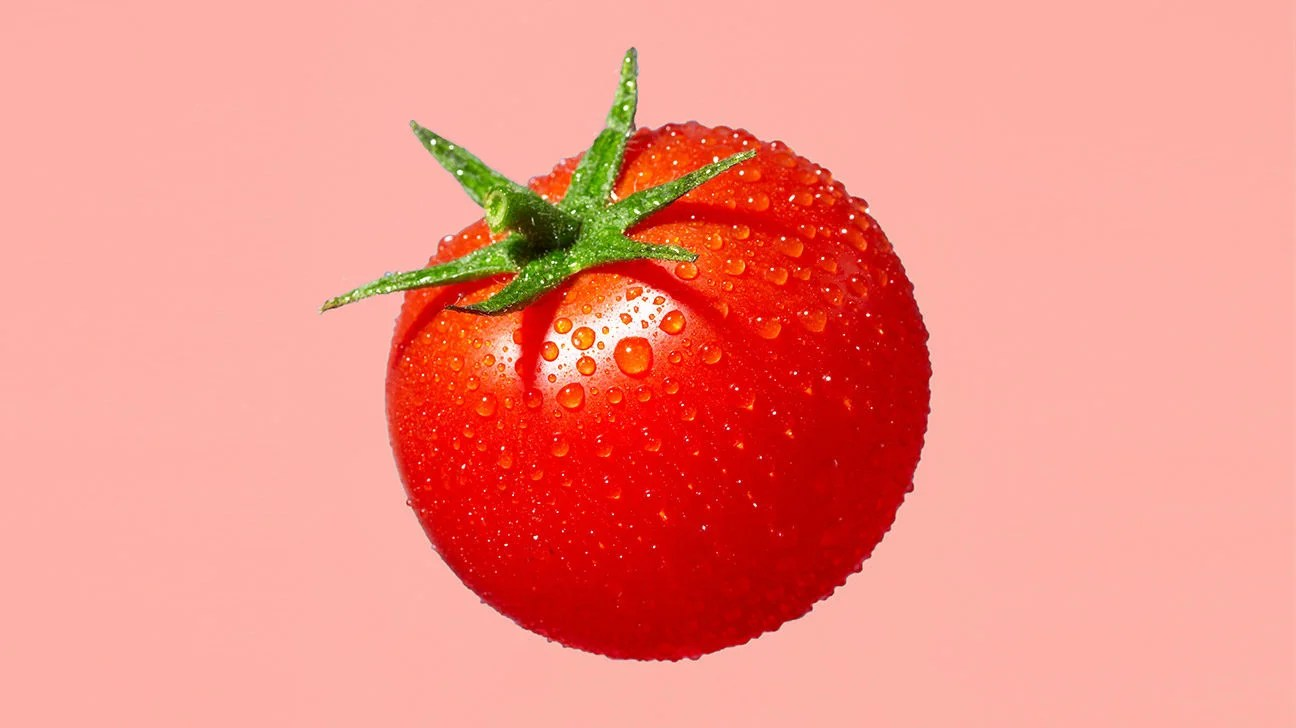tomato: (384, 117, 934, 665)
